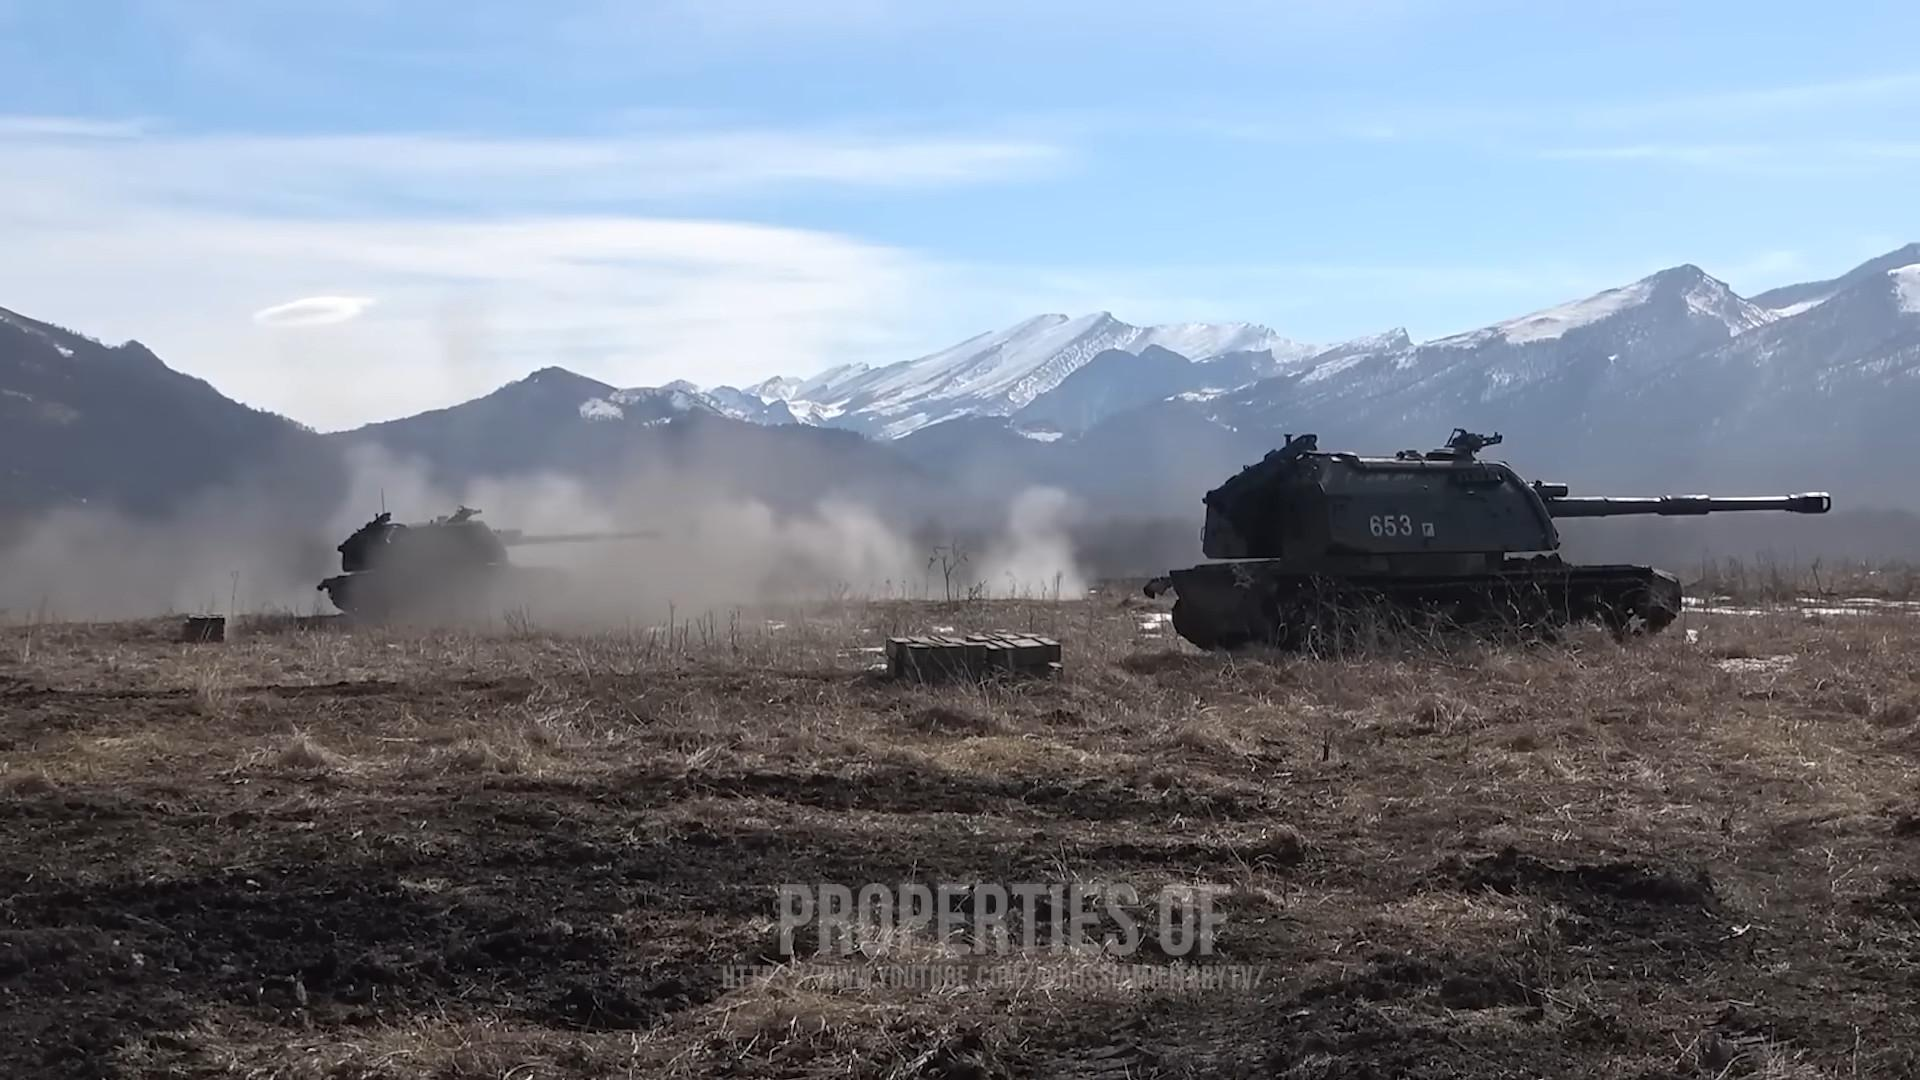tank: (1168, 434, 1833, 658), (316, 512, 658, 618)
